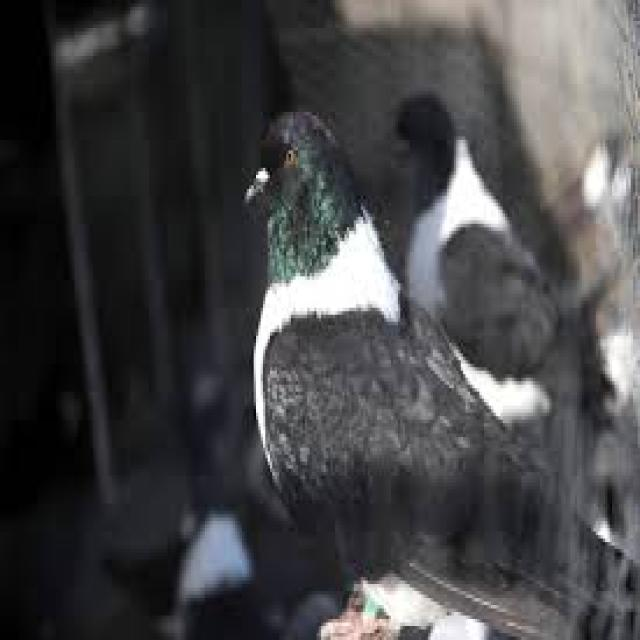pigeon: (234, 96, 541, 576)
